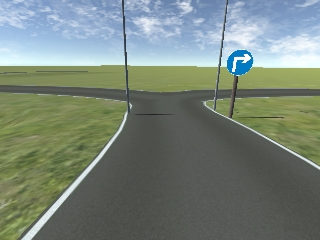right: (226, 50, 253, 75)
